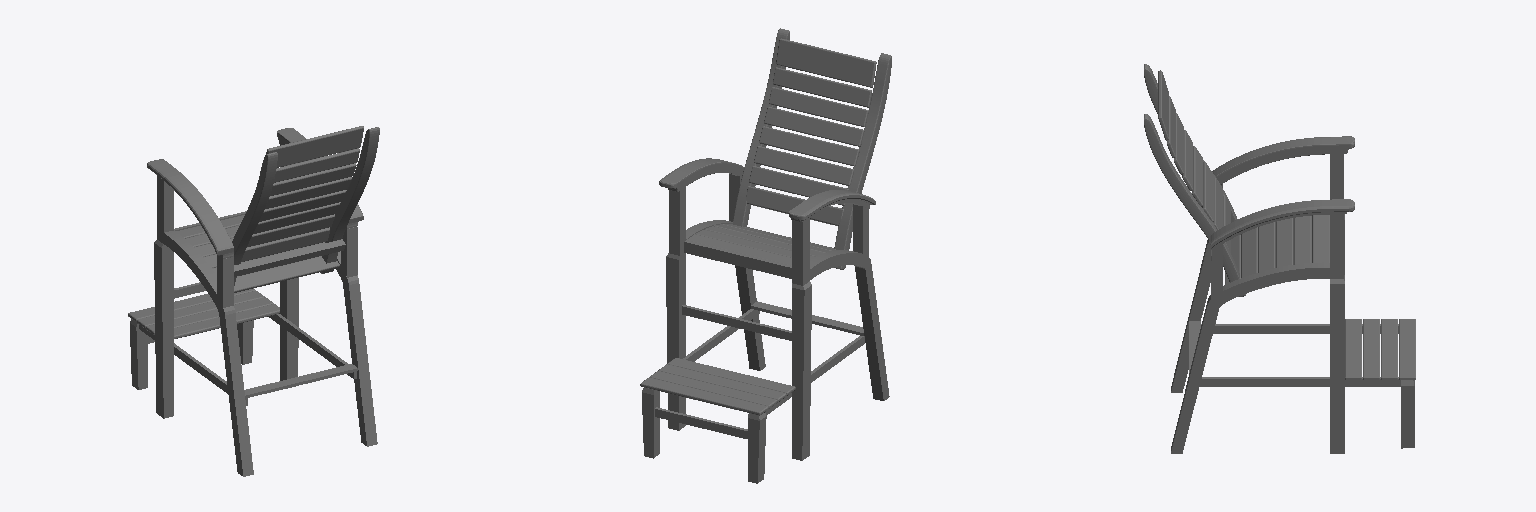
File: SillaSalvavidas.obj
3 views of the same model, side by side, from view 1: azimuth 30°, elevation 25°; view 2: azimuth 150°, elevation 25°; view 3: azimuth 270°, elevation 25° (orthographic).
Parts seen in each view (by area): view 1: Box071, Line002, Line004, Line005, Line010, ChamferBox023, Line008, Box074, ChamferBox015, Line001, Box078, ChamferBox022 (+18 smaller); view 2: Box071, Box074, ChamferBox023, Line008, Line002, ChamferBox019, ChamferBox020, ChamferBox021, ChamferBox022, ChamferBox018, Line010, Box073 (+21 smaller); view 3: Box074, Line005, Line007, Line010, Line003, Line004, Box075, Line002, Box070, ChamferBox006, ChamferBox007, ChamferBox008 (+11 smaller).
Part boxes in pixels (x1,y1,x2,y2): Box071: (154,175,173,418); Line002: (219,313,253,476); Line004: (343,283,377,446); Line005: (147,159,233,258); Line010: (320,127,379,273); ChamferBox023: (266,126,363,167); Line008: (232,152,277,285); Box074: (280,144,298,388); ChamferBox015: (234,256,339,292); Line001: (164,230,235,314); Box078: (234,239,345,276); ChamferBox022: (274,148,359,182); Box071: (792,217,811,460); Box074: (666,187,685,430); ChamferBox023: (776,38,876,87); Line008: (834,53,891,269); Line002: (855,263,889,400); ChamferBox019: (759,126,859,166); ChamferBox020: (764,107,864,146); ChamferBox021: (769,87,868,126); ChamferBox022: (773,67,871,107); ChamferBox018: (754,146,854,185); Line010: (733,28,789,226); Box073: (684,240,791,278); Box074: (1330,214,1344,453); Line005: (1212,136,1354,184); Line007: (1210,199,1354,249); Line010: (1144,114,1245,296); Line003: (1208,262,1329,308); Line004: (1171,301,1218,453); Box075: (1200,377,1400,386); Line002: (1171,240,1210,392); Box070: (1201,324,1398,333); ChamferBox006: (1399,319,1415,379); ChamferBox007: (1381,319,1397,379); ChamferBox008: (1363,319,1379,379).
Bounding box in the file's own units: 3.88 × 8.35 × 6.26.